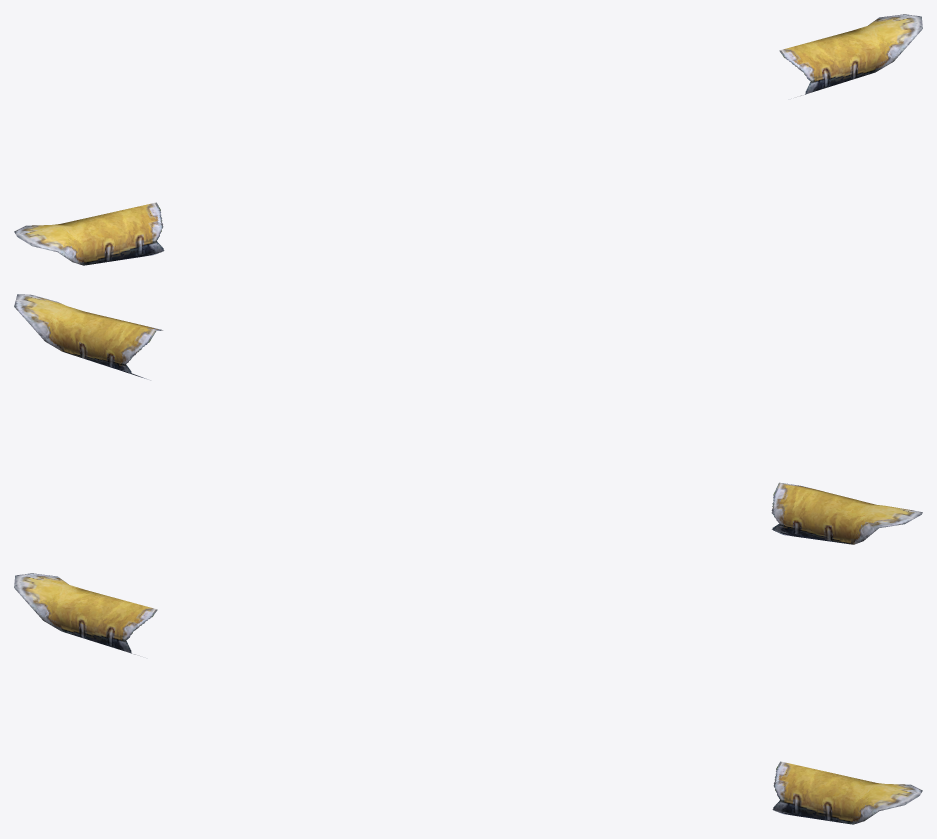
File: clothes_02_aa.glb
The picture shows the model from 3 angles, top to bottom: view 1: azimuth 30°, elevation 25°; view 2: azimuth 150°, elevation 25°; view 3: azimuth 330°, elevation 25°; orthographic projection.
Parts seen in each view (by area): view 1: clothes_02_aa; view 2: clothes_02_aa; view 3: clothes_02_aa.
Part boxes in pixels (<box>): clothes_02_aa: <box>14,14,922,265</box>; clothes_02_aa: <box>14,294,922,544</box>; clothes_02_aa: <box>14,573,922,824</box>.
Bounding box in the file's own units: 1.58 × 0.0878 × 0.1019.
Materials: 1 (1 with a texture image).
